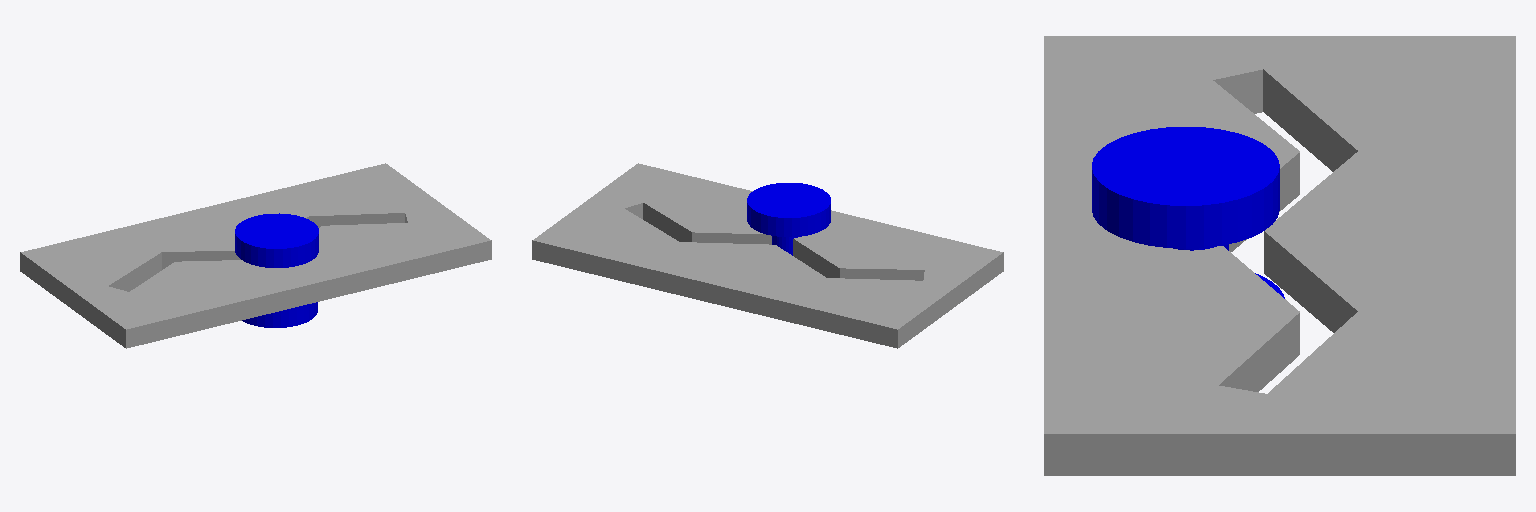
robot.urdf — toy-2:
<?xml version="1.0" ?>
<robot name="toy-2">
  <link name="base">
    <inertial>
      <mass value="1" />
      <inertia ixx="0.0" ixy="0.0" ixz="0.0" iyy="0.0" iyz="0.0" izz="0.0" />
    </inertial>
  </link>
  <joint name="base-connect" type="fixed">
    <parent link="base"/>
    <child link="panel"/>
    <origin rpy="0 0 0" xyz="0 0 0"/>
  </joint>
	


  <link name="panel">
    <contact>
    	<friction_anchor/>
    	   <lateral_friction value="0.0"/>
    </contact>
    <inertial>
      <origin rpy="0 0 0" xyz="0 0 0"/>
       <!-- mass controls penetration -->
       <mass value=".5"/>
       <inertia ixx="1e-4" ixy="0" ixz="0" iyy="1e-4" iyz="0" izz="1e-4"/>
    </inertial>
    <visual>
      <origin rpy="0 0 0" xyz="0 0 0"/>
      <geometry>
        <mesh filename="toy-2.obj"/>
      </geometry>
       <material name="white">
        <color rgba="0.7 0.7 0.7 1"/>
      </material>
    </visual>
    <collision concave="yes">
      <origin rpy="0 0 0" xyz="0 0 0"/>
      <geometry>
        <mesh filename="toy-2.obj"/>
      </geometry>
    </collision>
  </link>
  <joint name="yDir" type="prismatic">
    <parent link="panel"/>
    <child link="connector"/>
    <origin xyz= "0 0 0.0"/>
    <axis xyz="0 1 0"/>
    <limit effort="10.0" lower="-10" upper="10" velocity="1"/>
  </joint>
    <link name="connector">
        <inertial>
            <mass value="0"/>
            <inertia ixx="0" ixy="0" ixz="0" iyy="0" iyz="0" izz="0"/>
        </inertial>
    </link>
  <joint name="xDir" type="prismatic">
    <parent link="connector"/>
    <child link="knob"/>
    <origin xyz= "0 0 0.0"/>
    <axis xyz="1 0 0"/>
    <limit effort="10.0" lower="-0.5" upper="0.5" velocity="1"/>
  </joint>
  <link name="knob">
    <contact>
    	<friction_anchor/>
    	   <lateral_friction value="0.0"/>
    </contact>
    <inertial>
      <origin rpy="0 0 0" xyz="0 0 0"/>
       <!-- mass controls penetration -->
       <mass value=".5"/>
       <inertia ixx="1e-4" ixy="0" ixz="0" iyy="1e-4" iyz="0" izz="1e-4"/>
    </inertial>
    <visual>
      <origin rpy="0 0 0" xyz="0 0 0"/>
      <geometry>
        <mesh filename="knob.obj" scale="2 2 2"/>
      </geometry>
       <material name="knob_mtl">
        <color rgba="0 0 1 1"/>
      </material>
    </visual>
    <collision>
      <origin rpy="0 0 0" xyz="0 0 0"/>
      <geometry>
        <mesh filename="knob-collision.obj"/>
      </geometry>
    </collision>
  </link>
</robot>

--- Render facts (derived) ---
3 views of the same robot in one strip: view 1: azimuth 30°, elevation 25°; view 2: azimuth 150°, elevation 25°; view 3: azimuth 270°, elevation 25° (orthographic).
Model toy-2 with 4 links and 3 joints (2 prismatic, 1 fixed), rooted at base, posed every joint at zero.
Links seen in each view (by area): view 1: panel, knob; view 2: panel, knob; view 3: panel, knob.
Boxes of the visible links, x1=… form: panel: x1=20, y1=163, x2=491, y2=348; knob: x1=235, y1=213, x2=318, y2=327; panel: x1=532, y1=163, x2=1003, y2=348; knob: x1=747, y1=183, x2=830, y2=255; panel: x1=1044, y1=36, x2=1515, y2=475; knob: x1=1092, y1=127, x2=1284, y2=298.
Bounding box of the posed robot: 2 × 1 × 0.4185 m (x, y, z).
Meshes: 2 distinct files referenced, 2 mesh visuals loaded (2 OBJ).